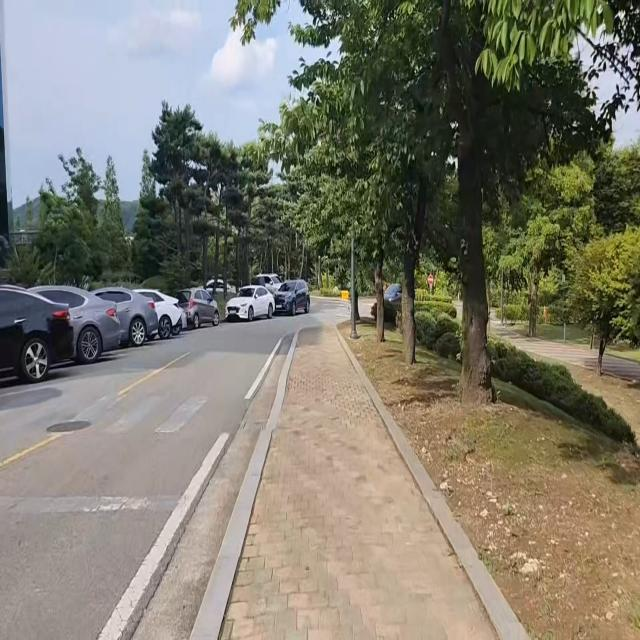obstacle: (25, 278, 221, 371), (0, 272, 80, 400), (221, 269, 316, 327)
road: (0, 307, 328, 640)
sidewalk: (190, 324, 532, 640)
